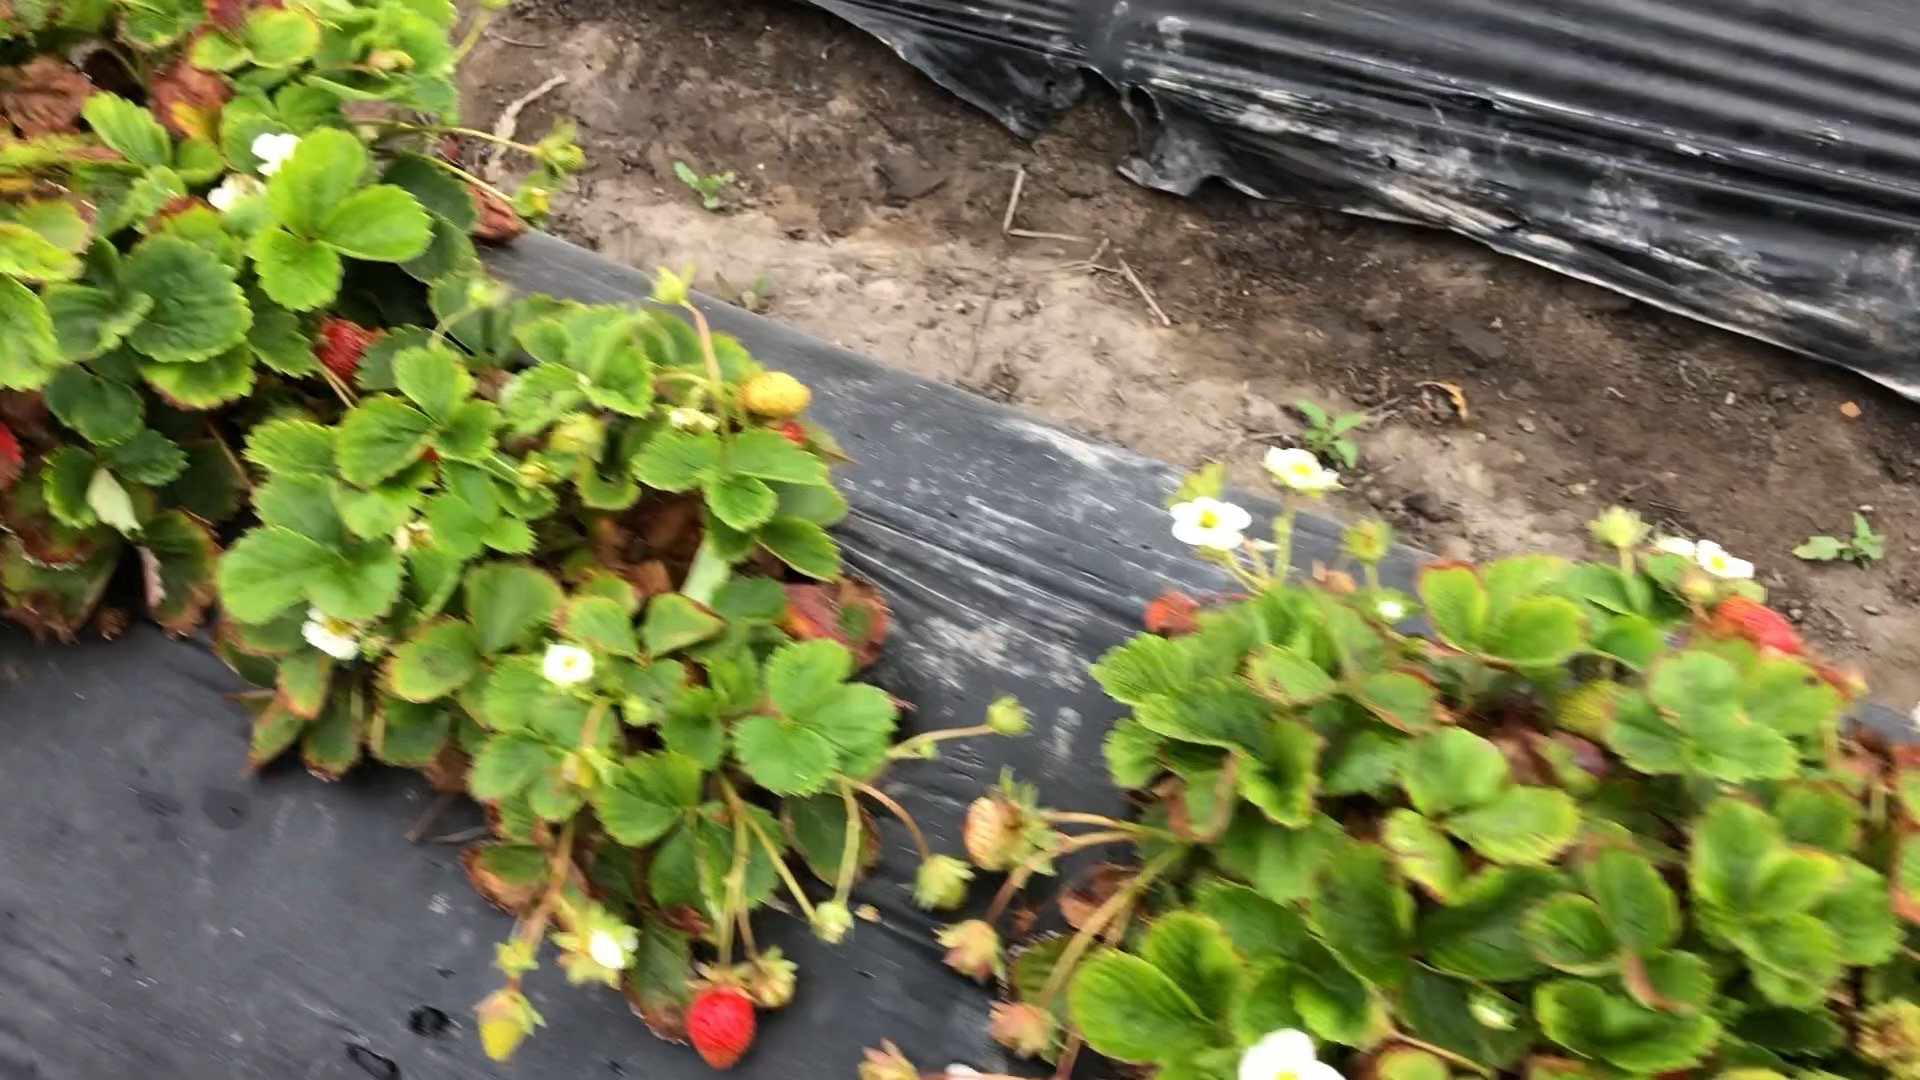ripe_strawberry: (684, 977, 765, 1072), (307, 314, 382, 388)
unripe_strawberry: (961, 790, 1040, 876), (473, 986, 543, 1062), (738, 365, 819, 425), (918, 856, 971, 914), (545, 415, 607, 458)
